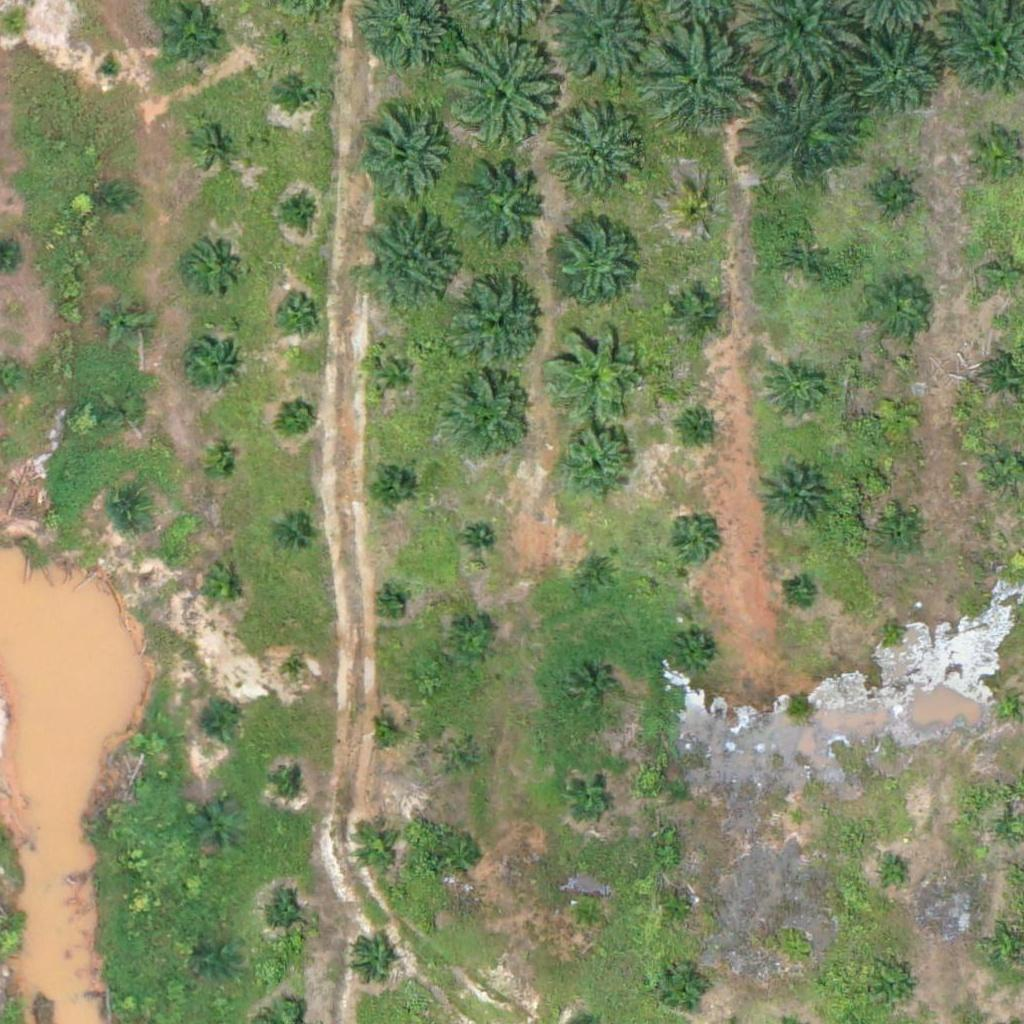Kelapa_Sawit: (744, 71, 869, 197), (437, 37, 562, 162), (644, 29, 757, 142), (355, 110, 455, 211), (545, 320, 645, 421), (363, 212, 463, 313), (558, 114, 646, 203), (552, 421, 640, 509), (854, 32, 942, 120), (443, 370, 531, 458), (455, 278, 543, 366), (462, 165, 550, 253), (552, 210, 639, 298), (758, 457, 833, 533), (155, 9, 218, 72), (866, 280, 928, 343), (766, 359, 828, 422), (182, 336, 244, 399), (770, 229, 832, 292), (439, 830, 489, 881), (659, 960, 709, 1011), (185, 239, 235, 290), (863, 171, 913, 222), (872, 390, 922, 441), (352, 824, 402, 875), (198, 563, 248, 614), (101, 296, 151, 347), (673, 288, 723, 338), (878, 511, 928, 561), (260, 895, 310, 945), (347, 937, 397, 987), (667, 517, 717, 567), (670, 631, 720, 681), (567, 770, 617, 820), (567, 663, 617, 713), (574, 549, 624, 599), (447, 619, 497, 669), (366, 459, 416, 509), (194, 803, 244, 853), (674, 188, 724, 238), (369, 350, 419, 400), (274, 286, 324, 336), (198, 704, 236, 742), (91, 181, 129, 219), (285, 75, 323, 113), (877, 972, 914, 1010), (568, 896, 606, 933), (442, 741, 480, 778), (201, 448, 239, 485), (198, 942, 235, 980), (279, 192, 316, 230), (197, 125, 234, 163), (108, 394, 146, 431), (281, 396, 318, 434), (661, 890, 698, 928), (277, 520, 314, 557), (109, 492, 146, 529), (787, 580, 812, 606), (992, 691, 1017, 716), (997, 819, 1022, 844), (880, 862, 905, 887), (880, 618, 905, 643), (378, 590, 403, 615), (371, 720, 396, 745), (283, 659, 308, 684), (277, 771, 302, 796), (688, 416, 713, 441), (97, 55, 122, 80), (786, 807, 811, 832), (466, 526, 490, 551)
